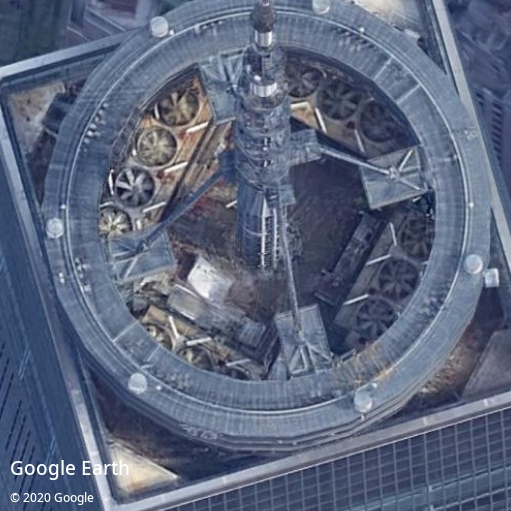Vent: (156, 87, 200, 127), (115, 167, 156, 208), (356, 299, 397, 340), (378, 259, 418, 301), (138, 128, 178, 168), (360, 102, 398, 143), (319, 81, 359, 119), (401, 218, 435, 261), (98, 207, 133, 241), (288, 64, 321, 98)
